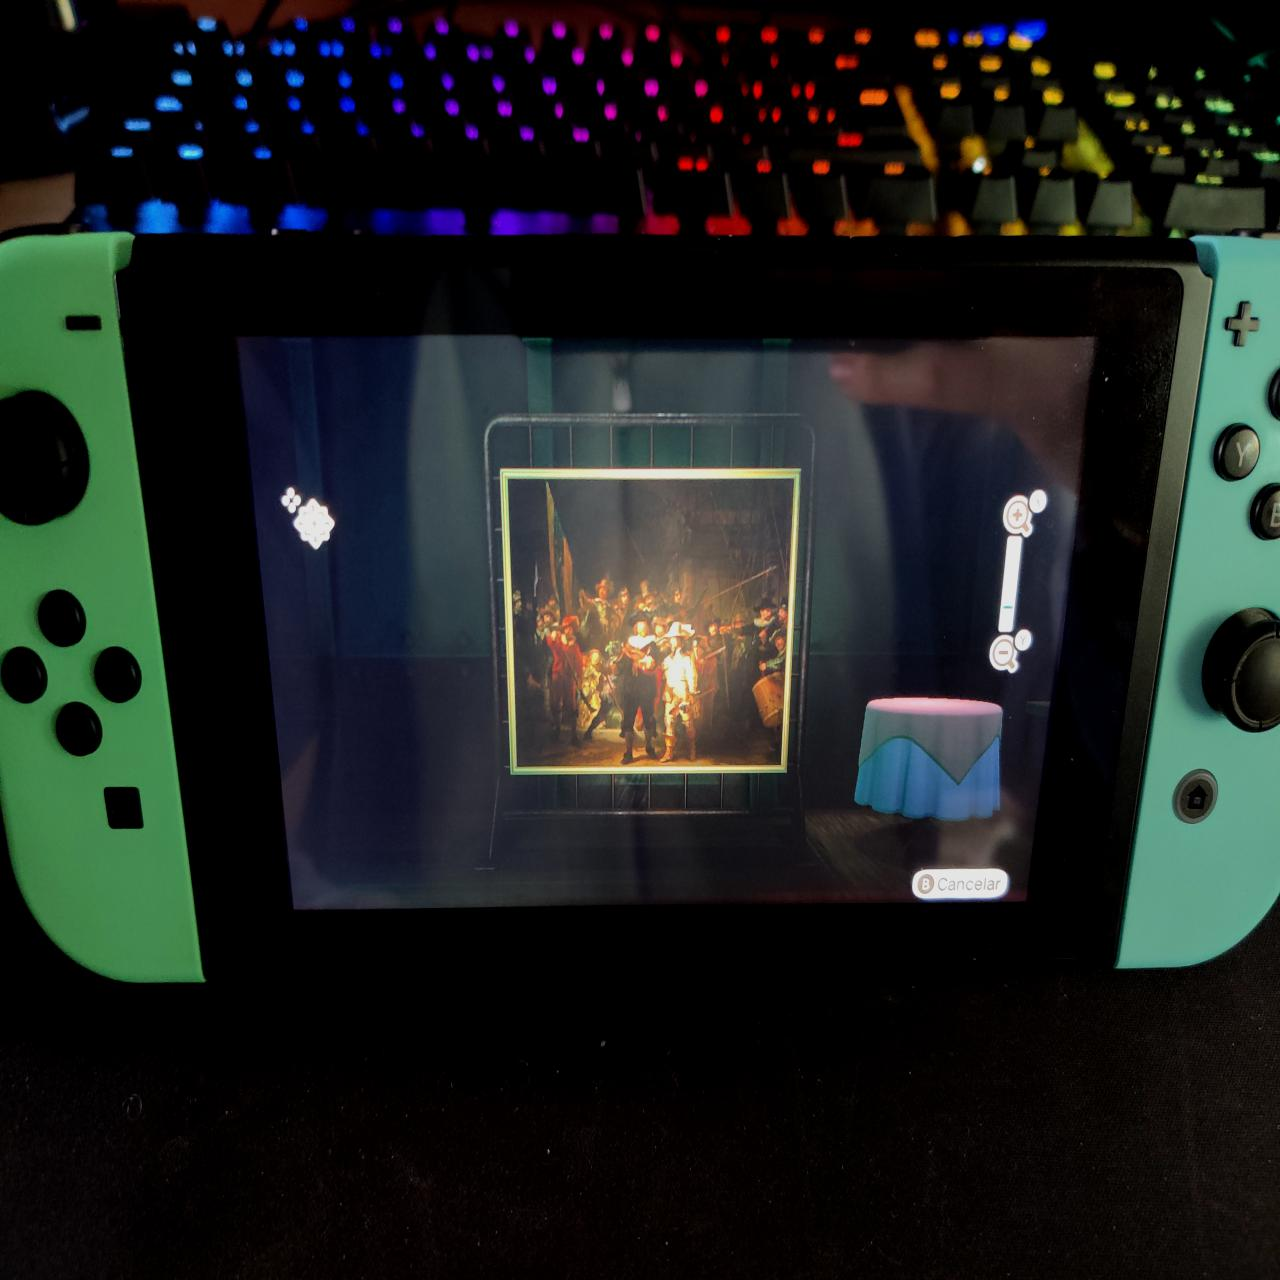NightWatch: (508, 482, 787, 769)
